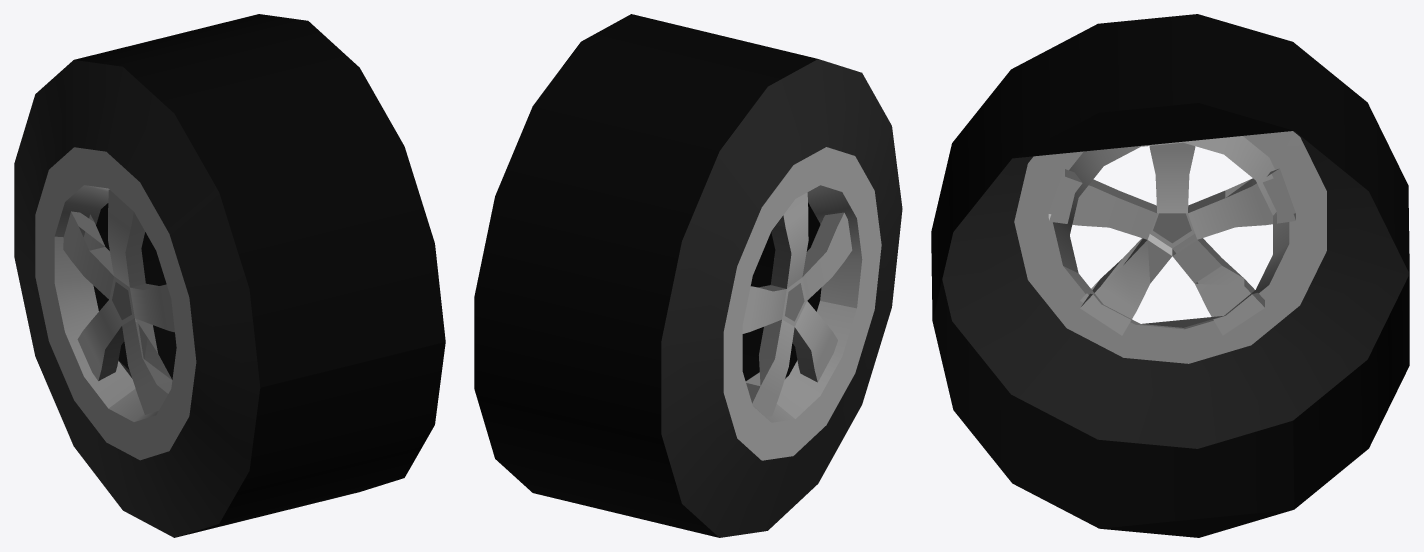
File: fwheel.glb
The picture shows the model from 3 angles, left to right: view 1: azimuth 30°, elevation 25°; view 2: azimuth 150°, elevation 25°; view 3: azimuth 270°, elevation 25°; orthographic projection. The views are drawn at different scales.
Parts seen in each view (by area): view 1: CarsColor1.003; view 2: CarsColor1.003; view 3: CarsColor1.003.
Boxes of the visible parts, x1=… form: CarsColor1.003: x1=14, y1=14, x2=445, y2=537; CarsColor1.003: x1=474, y1=14, x2=902, y2=537; CarsColor1.003: x1=931, y1=14, x2=1409, y2=537.
Bounding box in the file's own units: 26.8 × 54.31 × 54.15.
Materials: 1 (1 with a texture image).
